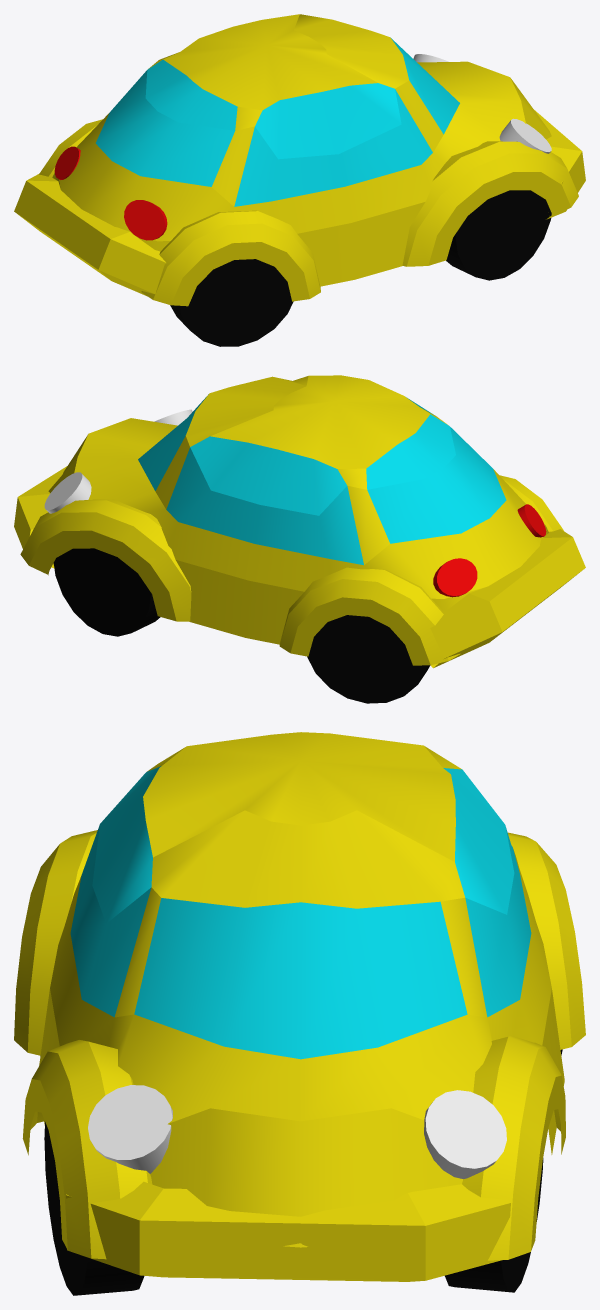
Rendered from yellow beetle.fbx.
The picture shows the model from 3 angles, top to bottom: view 1: azimuth 30°, elevation 25°; view 2: azimuth 150°, elevation 25°; view 3: azimuth 270°, elevation 25°; orthographic projection. The views are drawn at different scales.
Visible parts, largest first — view 1: pSphere4; view 2: pSphere4; view 3: pSphere4.
Boxes of the visible parts, x1,y1,x2,y2 form: pSphere4: (14, 14, 585, 346); pSphere4: (14, 375, 585, 703); pSphere4: (14, 732, 585, 1295).
Size of the model in its own units: 27.72 by 12.09 by 16.32.
